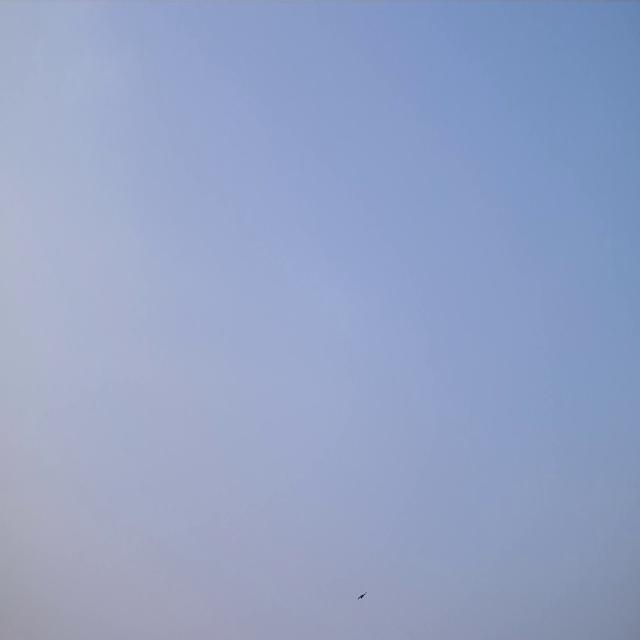UAV: (356, 591, 367, 602)
